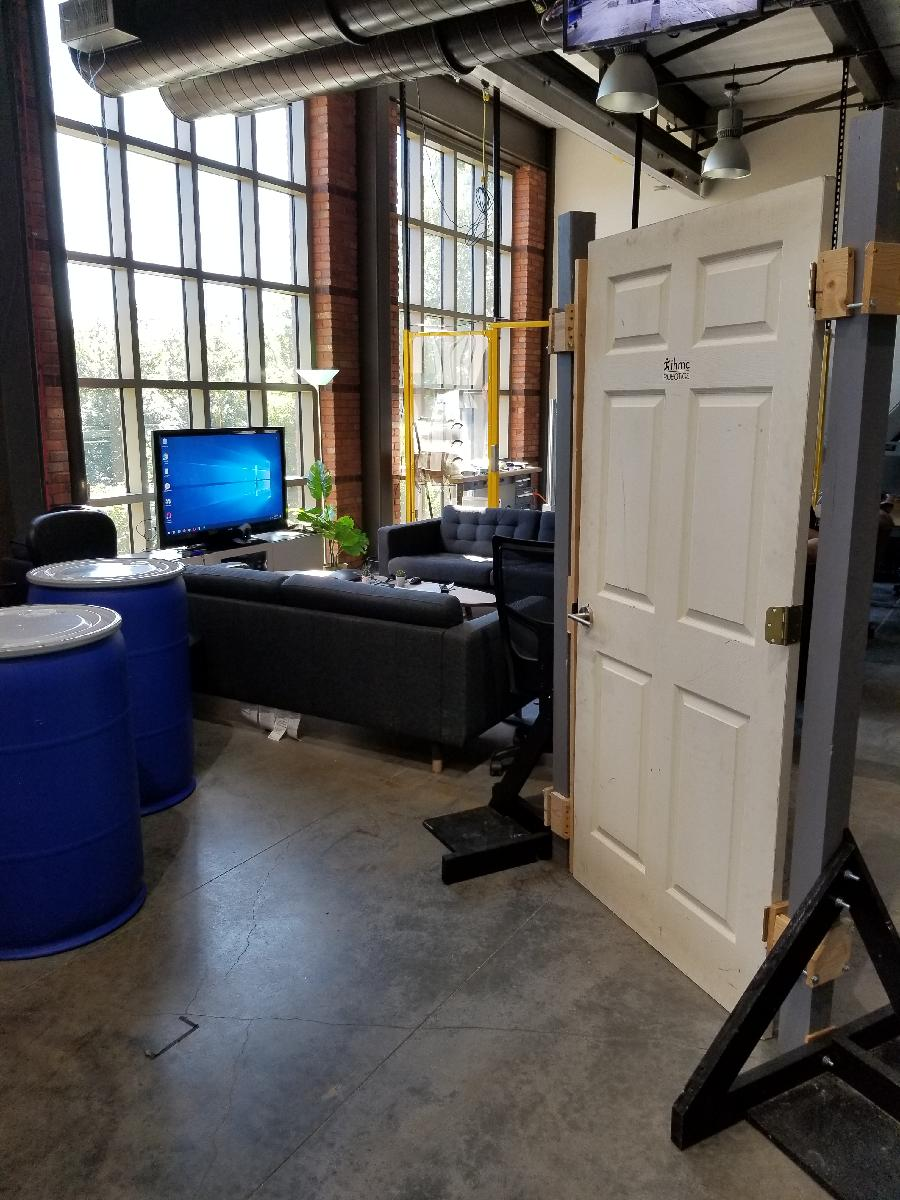door: (562, 173, 840, 1041)
doorHandle: (567, 603, 600, 638)
